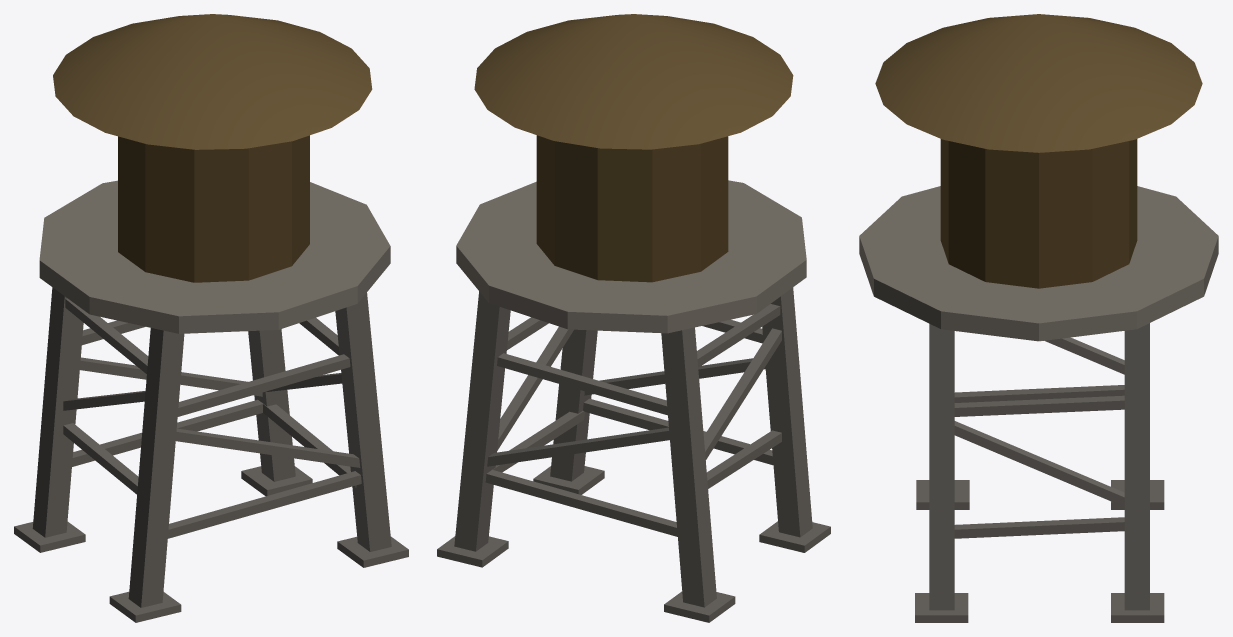
File: Prop_Watertank_01.fbx
3 renders of one model, left to right at view 1: azimuth 30°, elevation 25°; view 2: azimuth 150°, elevation 25°; view 3: azimuth 270°, elevation 25°, orthographic. The views are drawn at different scales.
Parts seen in each view (by area): view 1: Prop_Watertank_00; view 2: Prop_Watertank_00; view 3: Prop_Watertank_00.
Part boxes in pixels (box(x1,y1,x2,y2)): Prop_Watertank_00: box(14, 14, 408, 622); Prop_Watertank_00: box(437, 14, 830, 622); Prop_Watertank_00: box(859, 14, 1218, 622).
Size of the model in its own units: 338 by 568 by 341.
